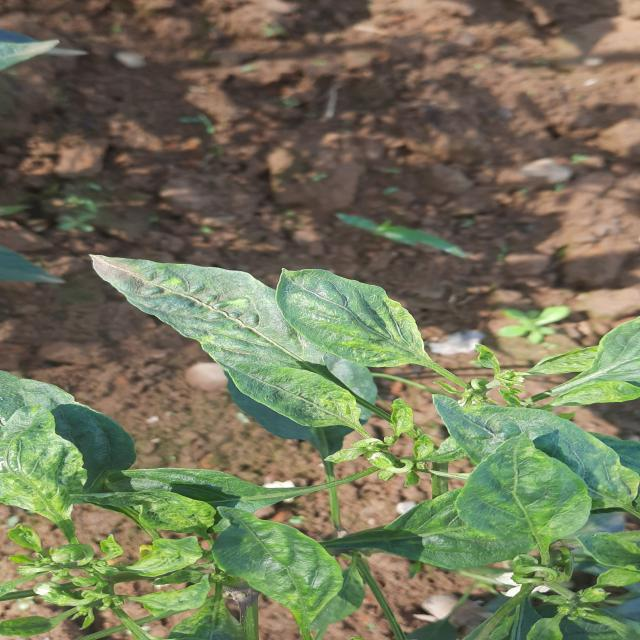thrips: (62, 232, 316, 360), (185, 341, 375, 437), (0, 411, 122, 520)
